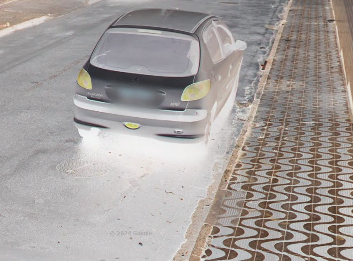car: (71, 5, 249, 158)
